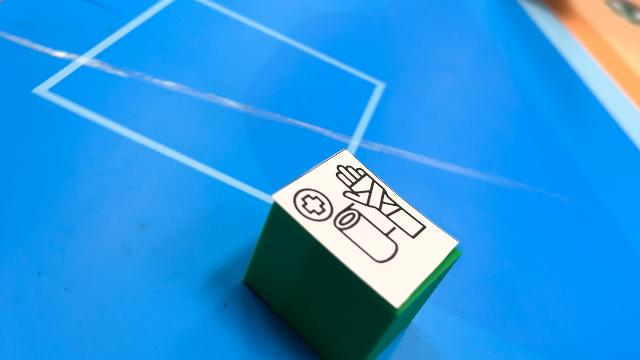bandage: (243, 147, 462, 358)
